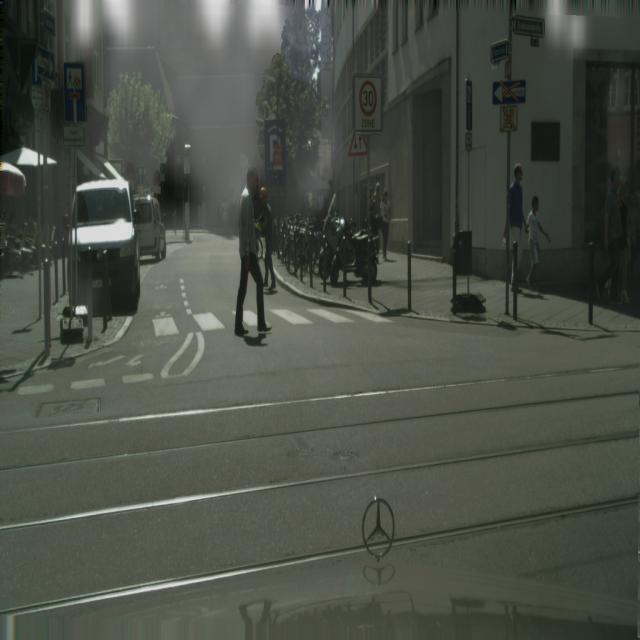bus: (295, 206, 374, 296)
person: (234, 166, 271, 337), (502, 164, 528, 289), (603, 166, 624, 303), (255, 186, 277, 292), (525, 196, 550, 287), (380, 190, 391, 261)
truck: (69, 176, 141, 311), (133, 194, 167, 262)
